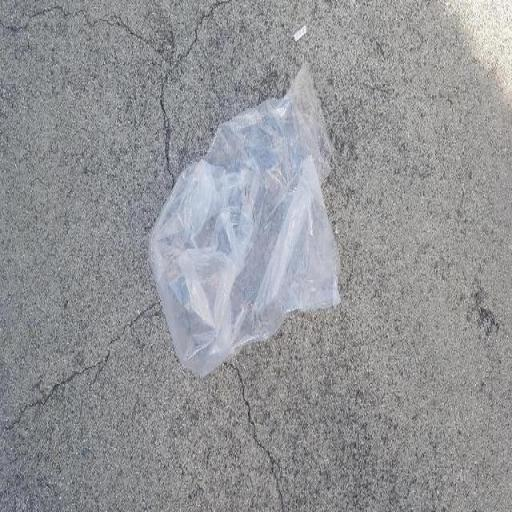plastic-bag: (144, 58, 347, 377)
